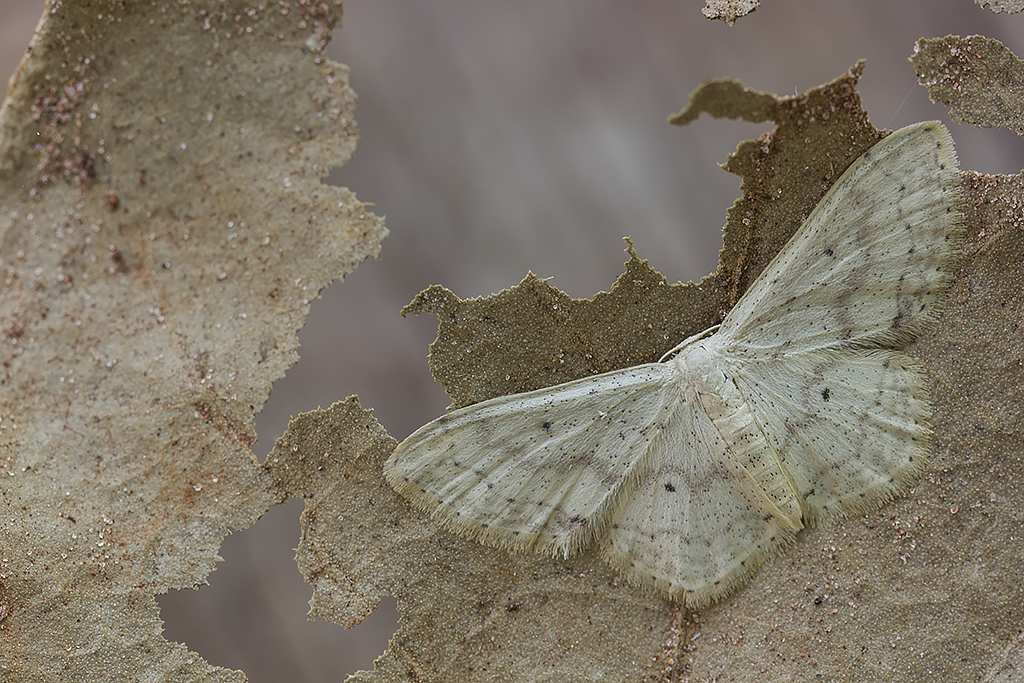Butterfly: (366, 116, 975, 624)
